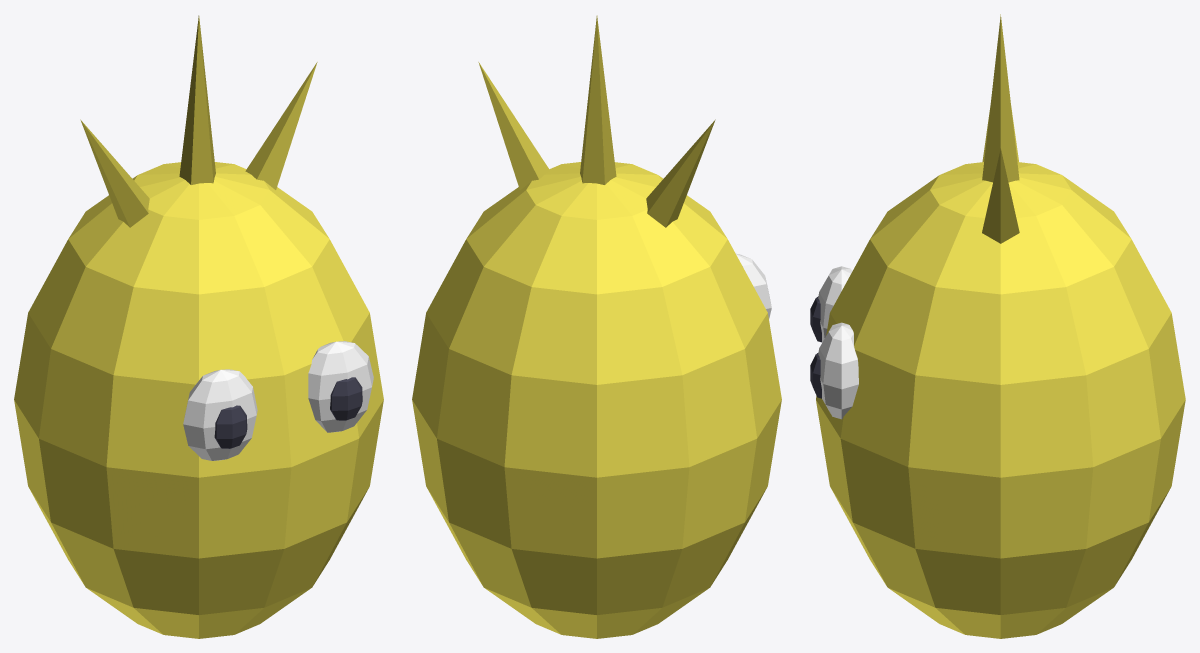
The model's file is gwisp.glb.
3 renders of one model, left to right at view 1: azimuth 30°, elevation 25°; view 2: azimuth 150°, elevation 25°; view 3: azimuth 270°, elevation 25°, orthographic.
Parts seen in each view (by area): view 1: gwisp; view 2: gwisp; view 3: gwisp.
Part boxes in pixels (box(x1,y1,x2,y2)): gwisp: box(14, 15, 383, 638); gwisp: box(412, 15, 781, 638); gwisp: box(810, 14, 1185, 638).
Size of the model in its own units: 0.85 by 1.55 by 0.8629.
